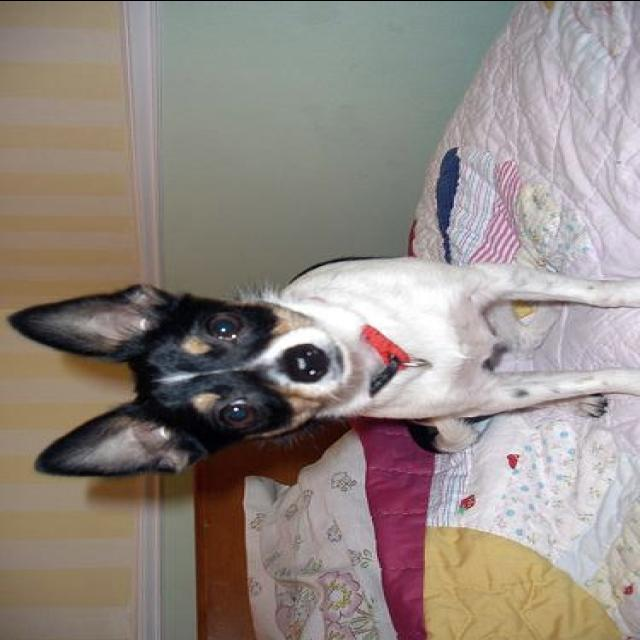chihuahua: (4, 250, 638, 482)
